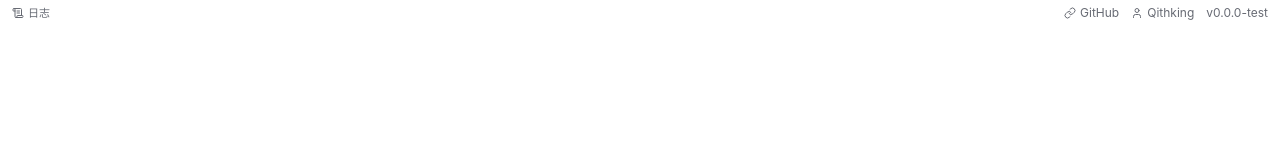
StatusBar viewLogsTooltip 快捷键正确性 › AC-2: macOS 默认快捷键 → 显示 ⌘+⇧+Y 符号
This screenshot has width=1280, height=160.
Focus the element with test id "statusbar-log-button" at (31, 13), box [12,5,50,21]
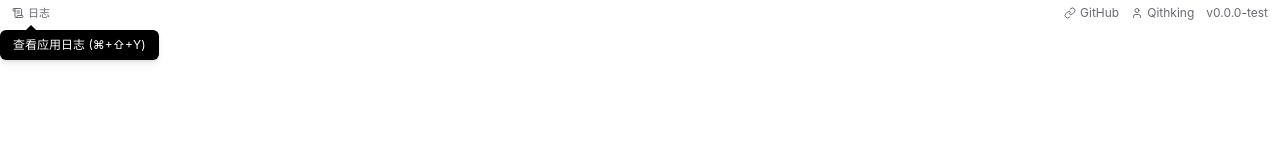
Check: the tooltip shows "⌘+⇧+Y", box [13,37,146,52]
